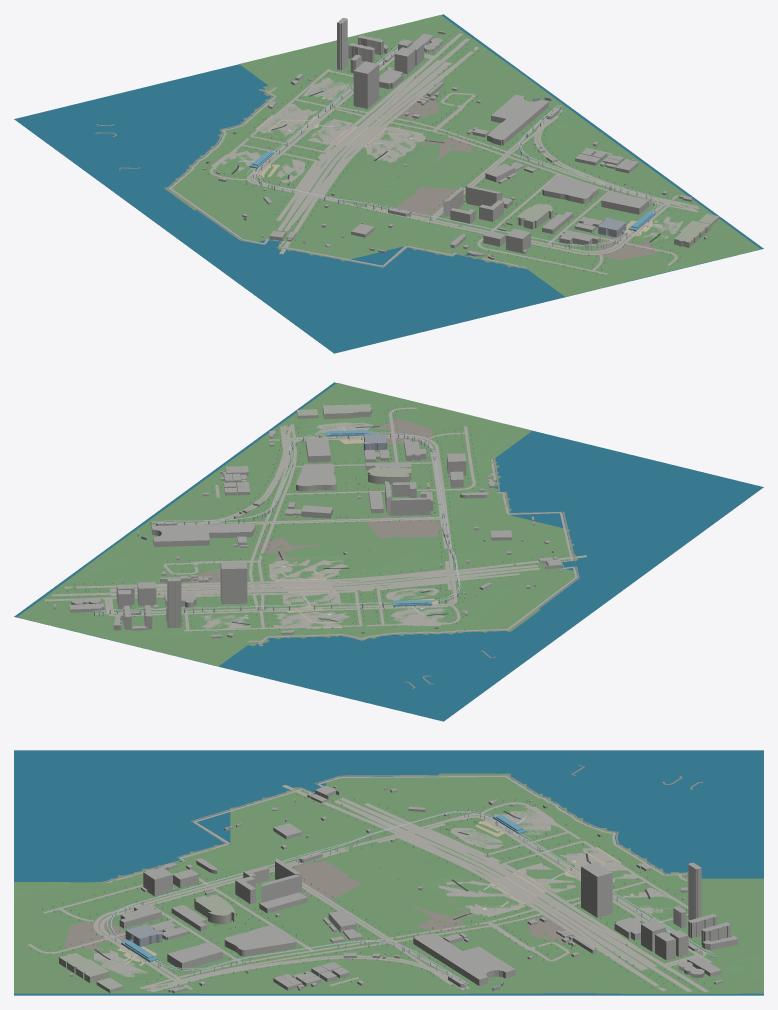
The model's file is odaiba_masterplan_v01_phase03d_environment.glb.
3 views of the same model, one above another, from view 1: azimuth 30°, elevation 25°; view 2: azimuth 150°, elevation 25°; view 3: azimuth 270°, elevation 25° (orthographic). The views are drawn at different scales.
Visible parts, largest first — view 1: TERRAIN_LOW_DENSITY, WATER_MAIN, SIDEWALK_NETWORK, CTX_north_east_unknown, PHASE03C_LANDSCAPE, BUILDING_PADS, CTX_central_east_unknown, CTX_south_east_unknown, PHASE03C_SERVICE_AREA, CTX_south_public_cultural, ROADSIDE_TREE_INSTANCES, YURIKAMOME_GUIDEWAY (+5 smaller); view 2: TERRAIN_LOW_DENSITY, WATER_MAIN, SIDEWALK_NETWORK, CTX_north_east_unknown, PHASE03C_LANDSCAPE, BUILDING_PADS, CTX_central_east_unknown, PHASE03C_SERVICE_AREA, CTX_south_east_unknown, CTX_south_public_cultural, YURIKAMOME_GUIDEWAY, ROADSIDE_TREE_INSTANCES (+4 smaller); view 3: TERRAIN_LOW_DENSITY, WATER_MAIN, SIDEWALK_NETWORK, CTX_north_east_unknown, PHASE03C_LANDSCAPE, CTX_central_east_unknown, BUILDING_PADS, CTX_south_east_unknown, PHASE03C_SERVICE_AREA, CTX_south_public_cultural, YURIKAMOME_GUIDEWAY, ROADSIDE_TREE_INSTANCES (+8 smaller).
Boxes of the visible parts, x1=… form: TERRAIN_LOW_DENSITY: x1=164, y1=15, x2=760, y2=296; WATER_MAIN: x1=14, y1=14, x2=763, y2=353; SIDEWALK_NETWORK: x1=210, y1=33, x2=699, y2=274; CTX_north_east_unknown: x1=291, y1=18, x2=559, y2=145; PHASE03C_LANDSCAPE: x1=238, y1=150, x2=590, y2=234; BUILDING_PADS: x1=211, y1=77, x2=683, y2=240; CTX_central_east_unknown: x1=403, y1=141, x2=638, y2=223; CTX_south_east_unknown: x1=479, y1=182, x2=707, y2=253; PHASE03C_SERVICE_AREA: x1=382, y1=95, x2=657, y2=260; CTX_south_public_cultural: x1=516, y1=203, x2=719, y2=247; ROADSIDE_TREE_INSTANCES: x1=206, y1=32, x2=692, y2=275; YURIKAMOME_GUIDEWAY: x1=253, y1=41, x2=658, y2=245; TERRAIN_LOW_DENSITY: x1=17, y1=383, x2=578, y2=666; WATER_MAIN: x1=14, y1=382, x2=763, y2=721; SIDEWALK_NETWORK: x1=44, y1=407, x2=586, y2=631; CTX_north_east_unknown: x1=53, y1=521, x2=255, y2=638; PHASE03C_LANDSCAPE: x1=274, y1=458, x2=483, y2=604; BUILDING_PADS: x1=200, y1=422, x2=446, y2=628; CTX_central_east_unknown: x1=202, y1=463, x2=433, y2=554; PHASE03C_SERVICE_AREA: x1=190, y1=418, x2=440, y2=592; CTX_south_east_unknown: x1=269, y1=430, x2=466, y2=497; CTX_south_public_cultural: x1=296, y1=404, x2=411, y2=484; YURIKAMOME_GUIDEWAY: x1=95, y1=432, x2=460, y2=612; ROADSIDE_TREE_INSTANCES: x1=46, y1=405, x2=567, y2=632; TERRAIN_LOW_DENSITY: x1=14, y1=773, x2=763, y2=993; WATER_MAIN: x1=14, y1=750, x2=763, y2=995; SIDEWALK_NETWORK: x1=28, y1=785, x2=712, y2=992; CTX_north_east_unknown: x1=413, y1=862, x2=738, y2=987; PHASE03C_LANDSCAPE: x1=179, y1=804, x2=483, y2=944; CTX_central_east_unknown: x1=224, y1=858, x2=422, y2=990; BUILDING_PADS: x1=94, y1=806, x2=680, y2=976; CTX_south_east_unknown: x1=69, y1=867, x2=255, y2=993; PHASE03C_SERVICE_AREA: x1=64, y1=860, x2=590, y2=952; CTX_south_public_cultural: x1=59, y1=894, x2=234, y2=993; YURIKAMOME_GUIDEWAY: x1=107, y1=811, x2=714, y2=984; ROADSIDE_TREE_INSTANCES: x1=30, y1=788, x2=711, y2=992.
Size of the model in its own units: 1450 by 152 by 1872.
